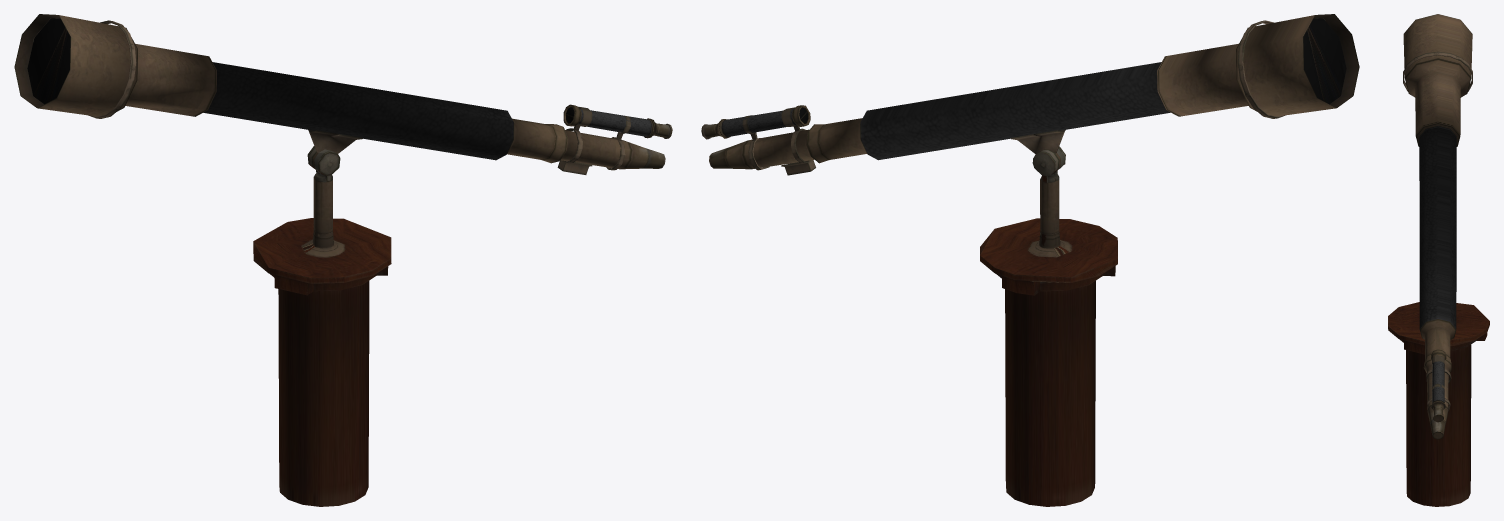
The model's file is TELESCOP.fbx.
3 views of the same model, side by side, from view 1: azimuth 30°, elevation 25°; view 2: azimuth 150°, elevation 25°; view 3: azimuth 270°, elevation 25° (orthographic). The views are drawn at different scales.
Parts seen in each view (by area): view 1: TELESCOP; view 2: TELESCOP; view 3: TELESCOP.
Boxes of the visible parts, x1,y1,x2,y2 form: TELESCOP: (14,14,672,506); TELESCOP: (701,14,1359,506); TELESCOP: (1388,14,1489,506).
Bounding box in the file's own units: 433 × 347 × 82.81.
